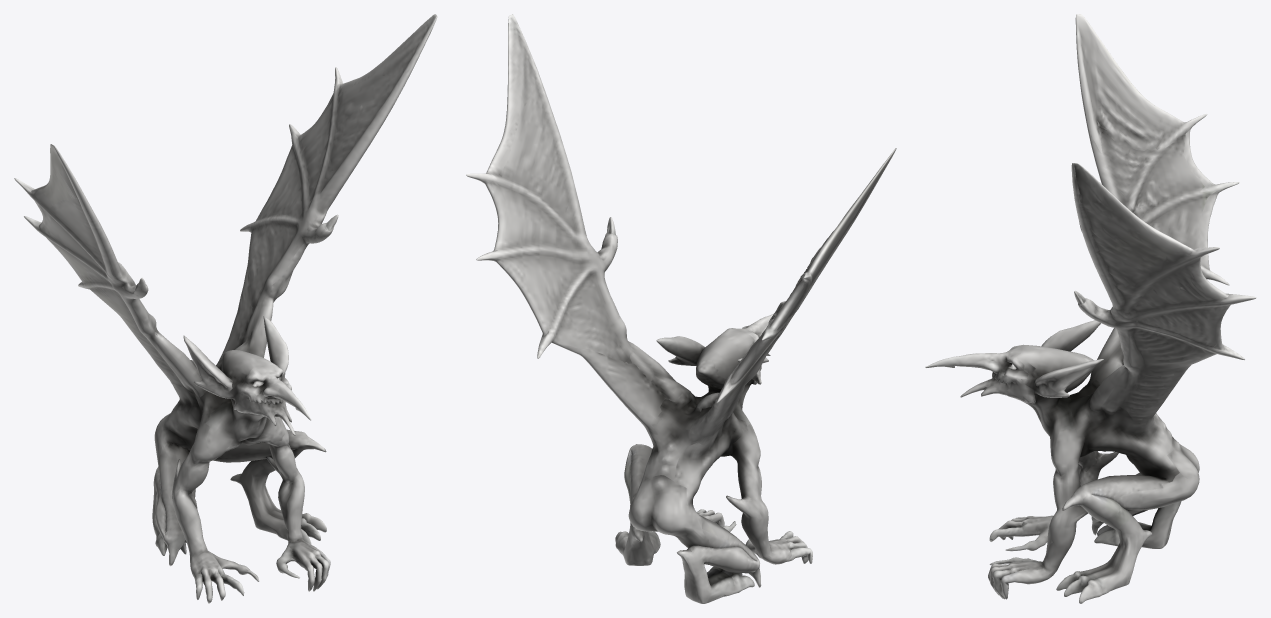
The model's file is MZ4250 - Steam Mephit_1 2025.glb.
3 views of the same model, side by side, from view 1: azimuth 30°, elevation 25°; view 2: azimuth 150°, elevation 25°; view 3: azimuth 270°, elevation 25° (orthographic).
Visible parts, largest first — view 1: Cylinder.001; view 2: Cylinder.001; view 3: Cylinder.001.
Part boxes in pixels (x1=…): Cylinder.001: x1=14, y1=14, x2=437, y2=603; Cylinder.001: x1=466, y1=14, x2=896, y2=603; Cylinder.001: x1=925, y1=14, x2=1256, y2=603.
Bounding box in the file's own units: 83.5 × 106 × 62.39.
1 material, 1 textured.
